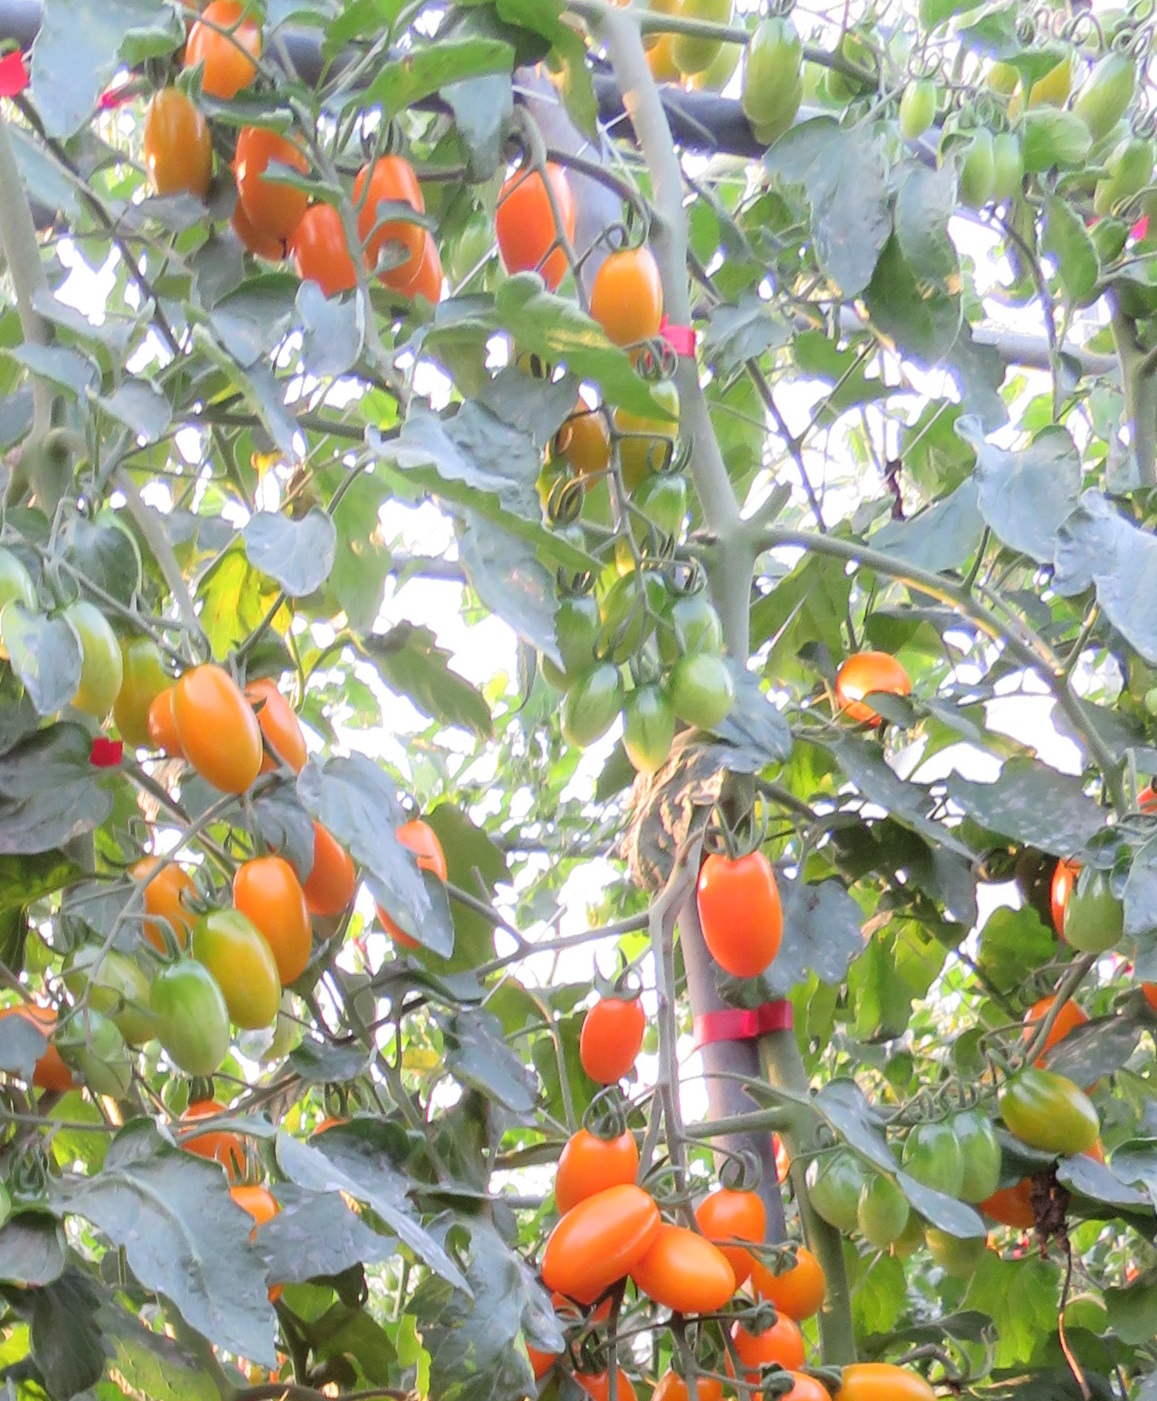green: (994, 1061, 1103, 1162), (151, 959, 233, 1080), (66, 937, 156, 1039), (213, 913, 291, 1023), (68, 593, 129, 726), (56, 1008, 137, 1103), (654, 593, 745, 664), (537, 588, 595, 690), (738, 10, 796, 108), (807, 1153, 878, 1232), (667, 666, 748, 732), (1078, 47, 1143, 129), (552, 675, 625, 746), (1052, 892, 1123, 965), (856, 1174, 914, 1261), (597, 573, 661, 648), (670, 1, 733, 69), (991, 125, 1032, 225), (625, 688, 668, 777), (959, 1108, 1001, 1199), (907, 1130, 959, 1195), (1109, 130, 1151, 209), (947, 140, 991, 204), (900, 72, 934, 151), (646, 465, 688, 517)
orange: (161, 666, 269, 798), (538, 1190, 661, 1300), (690, 849, 783, 984), (481, 161, 567, 291), (255, 856, 320, 984), (177, 3, 260, 104), (233, 123, 304, 239), (575, 977, 646, 1093), (139, 97, 217, 201), (633, 1242, 746, 1313), (282, 820, 362, 919), (580, 246, 661, 340), (341, 161, 414, 256), (288, 209, 354, 306), (552, 1123, 645, 1188), (826, 650, 913, 719), (261, 680, 317, 777), (694, 1197, 781, 1256), (754, 1249, 835, 1311), (825, 1347, 911, 1401), (730, 1317, 792, 1364)
